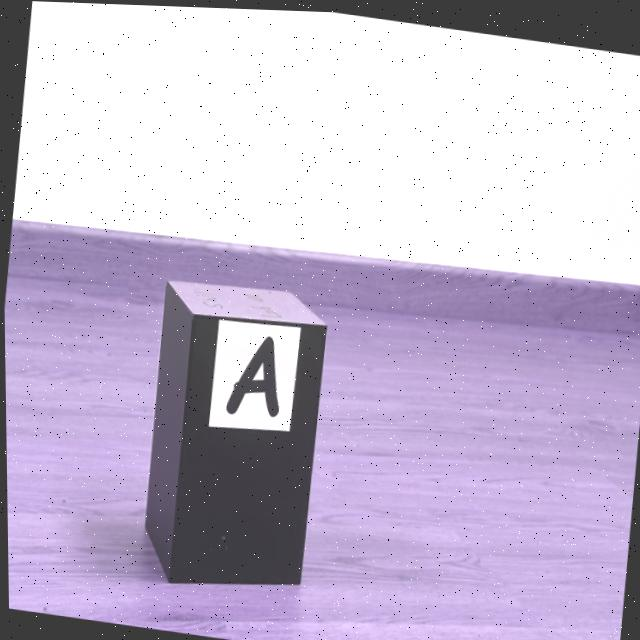A: (224, 333, 278, 414)
